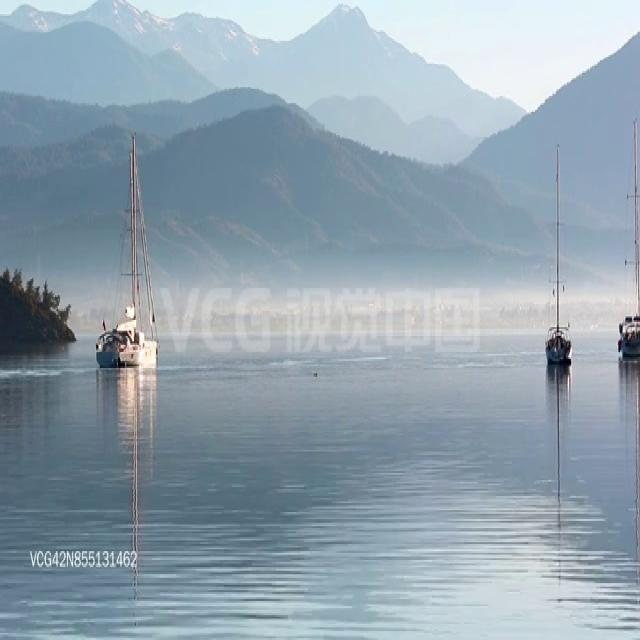sailboat: (96, 123, 162, 368), (543, 135, 575, 366), (619, 113, 640, 373)
